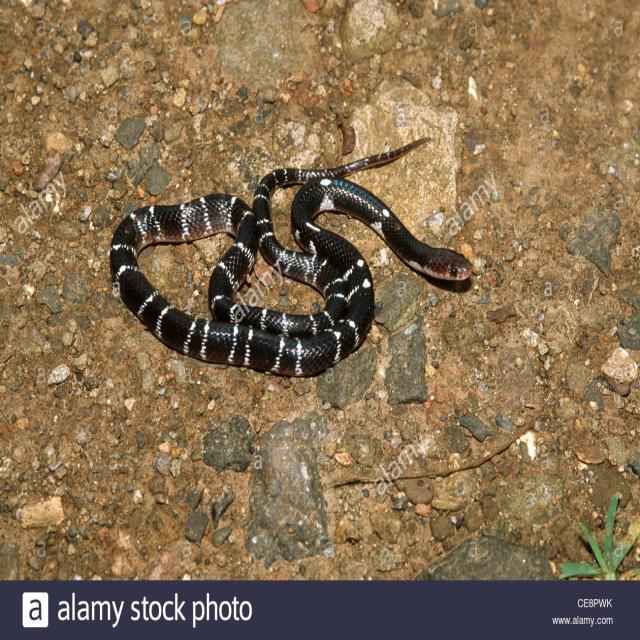Snake: (109, 134, 474, 378)
